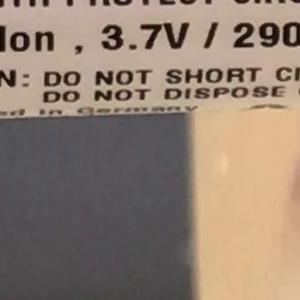3.7V: (91, 12, 199, 60)
